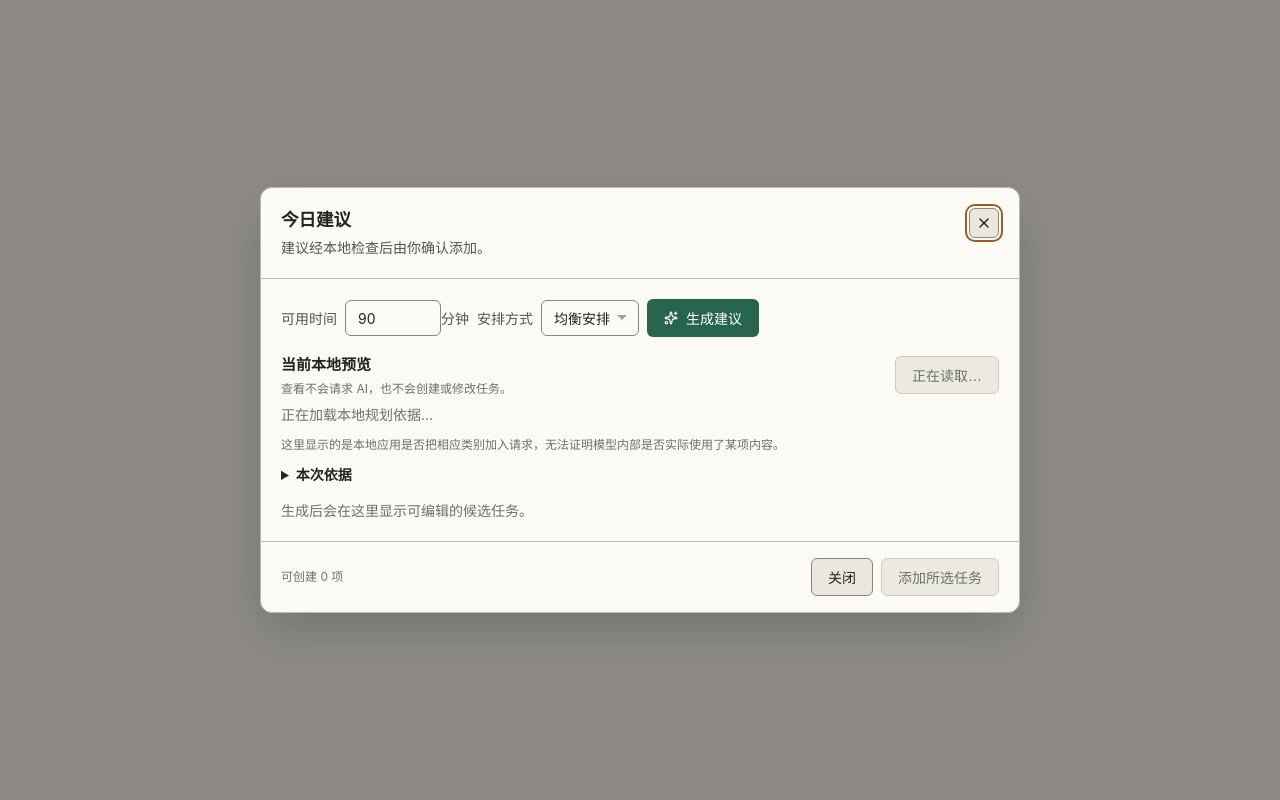
Scenario: TodayActionSuggestionDialog › repairs an unselected candidate without admitting another invalid unselected candidate
The width and height of the screenshot is (1280, 800).
Click the button with test id "ai-plan-generate" at (703, 318), box [647,299,759,337]
(page scrolled)
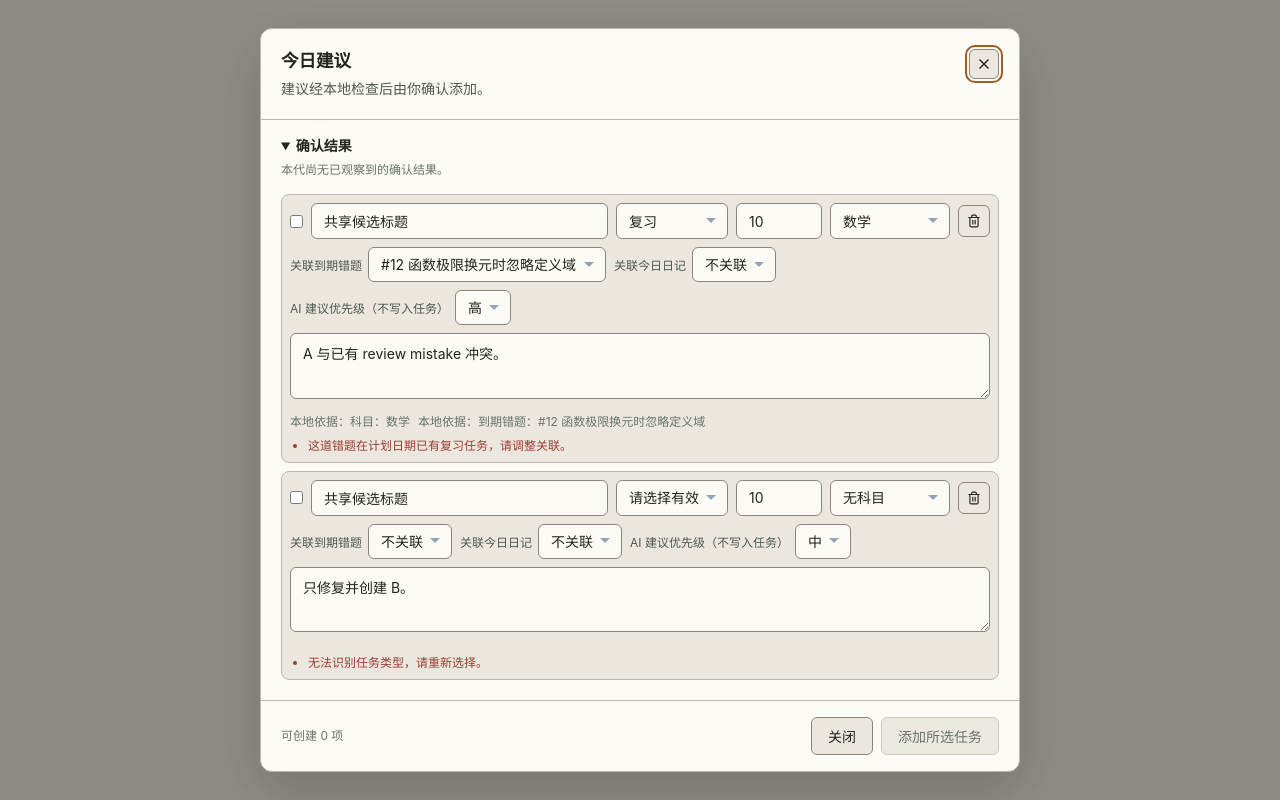
Check: the list item "这道错题在计划日期已有复习任务，请调整关联。" is shown, box [308,438,572,453]
Check: the list item "无法识别任务类型，请重新选择。" is shown, box [308,655,488,670]
Check: the 1st checkbox named "选择 共享候选标题" is not checked, box [290,214,303,228]
Select "专注学习" in the 2nd dropdown named "任务类型" at (672, 498), box [616,480,728,516]
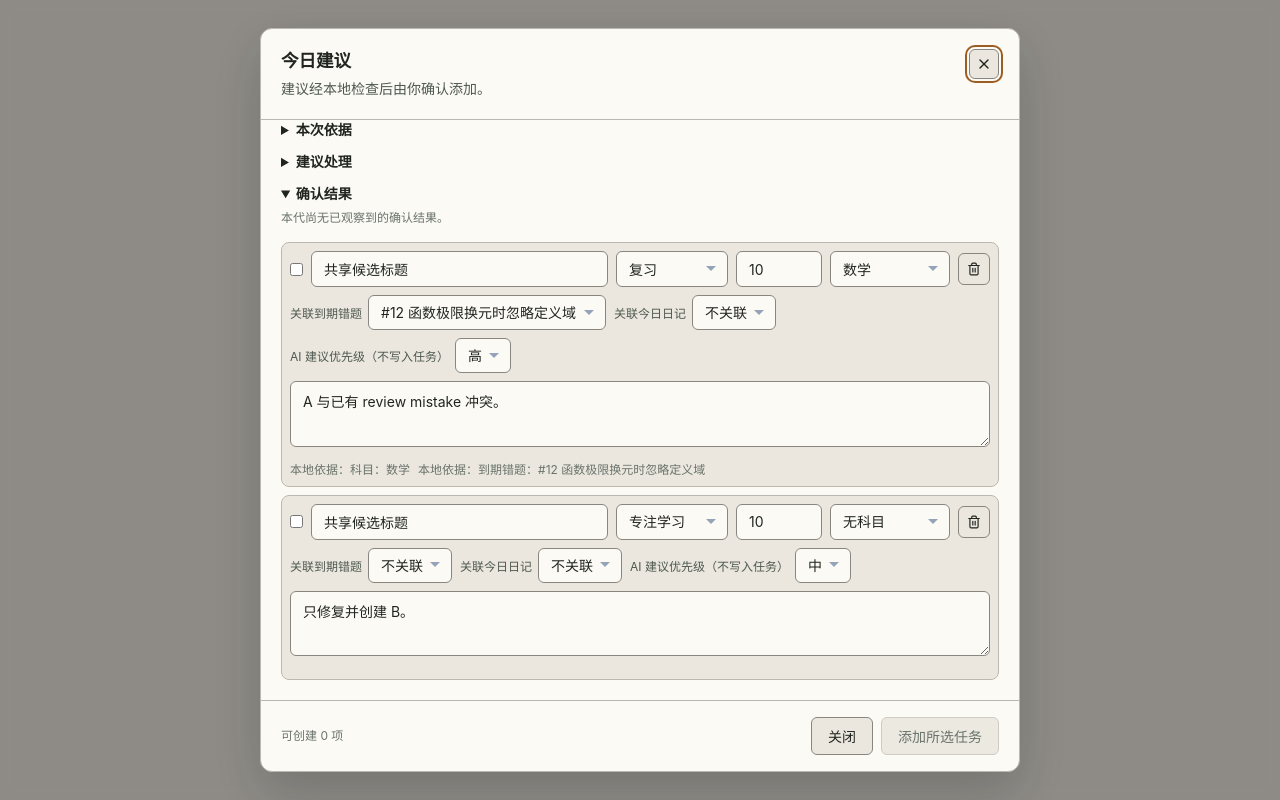
Check: the list item "无法识别任务类型，请重新选择。" is gone
Click the 2nd checkbox named "选择 共享候选标题" at (296, 522), box [290,515,303,528]
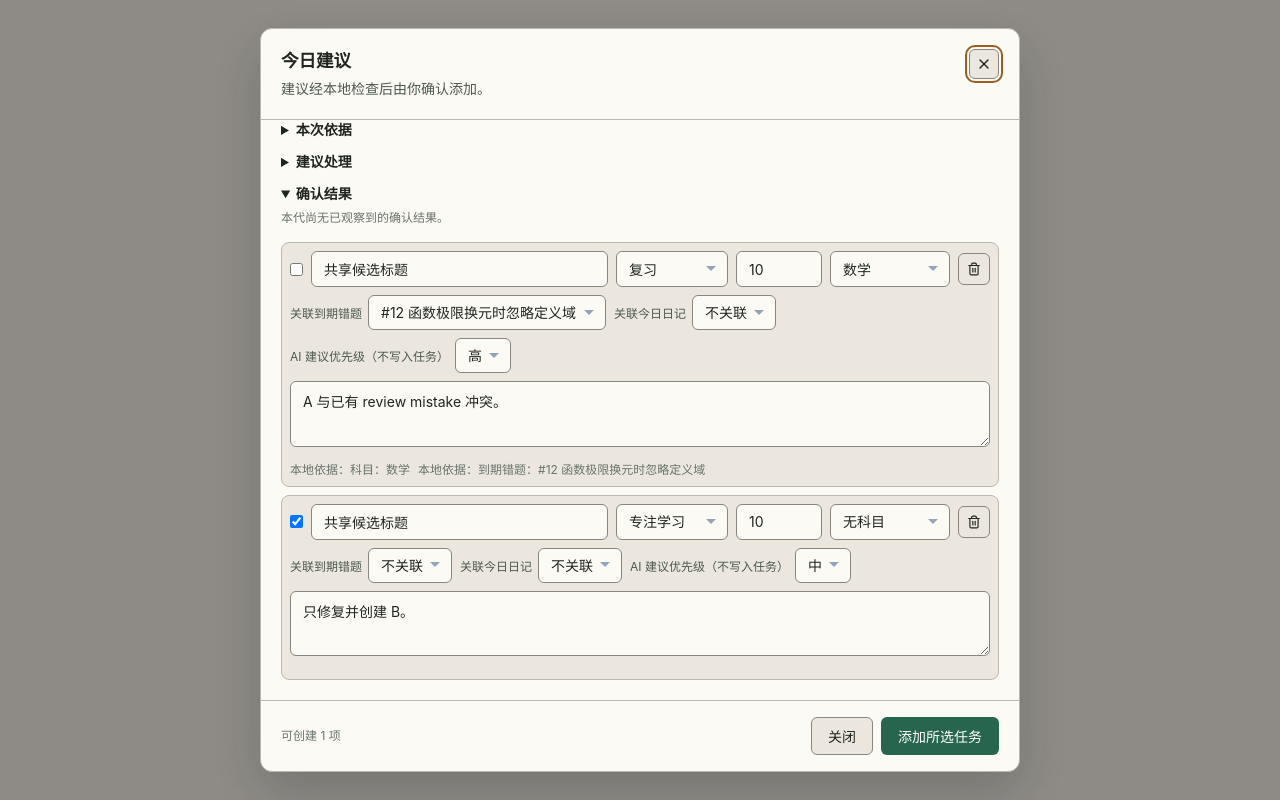
Check: the button with test id "ai-plan-create-selected" is enabled
Click the button with test id "ai-plan-create-selected" at (940, 736), box [881,717,999,755]
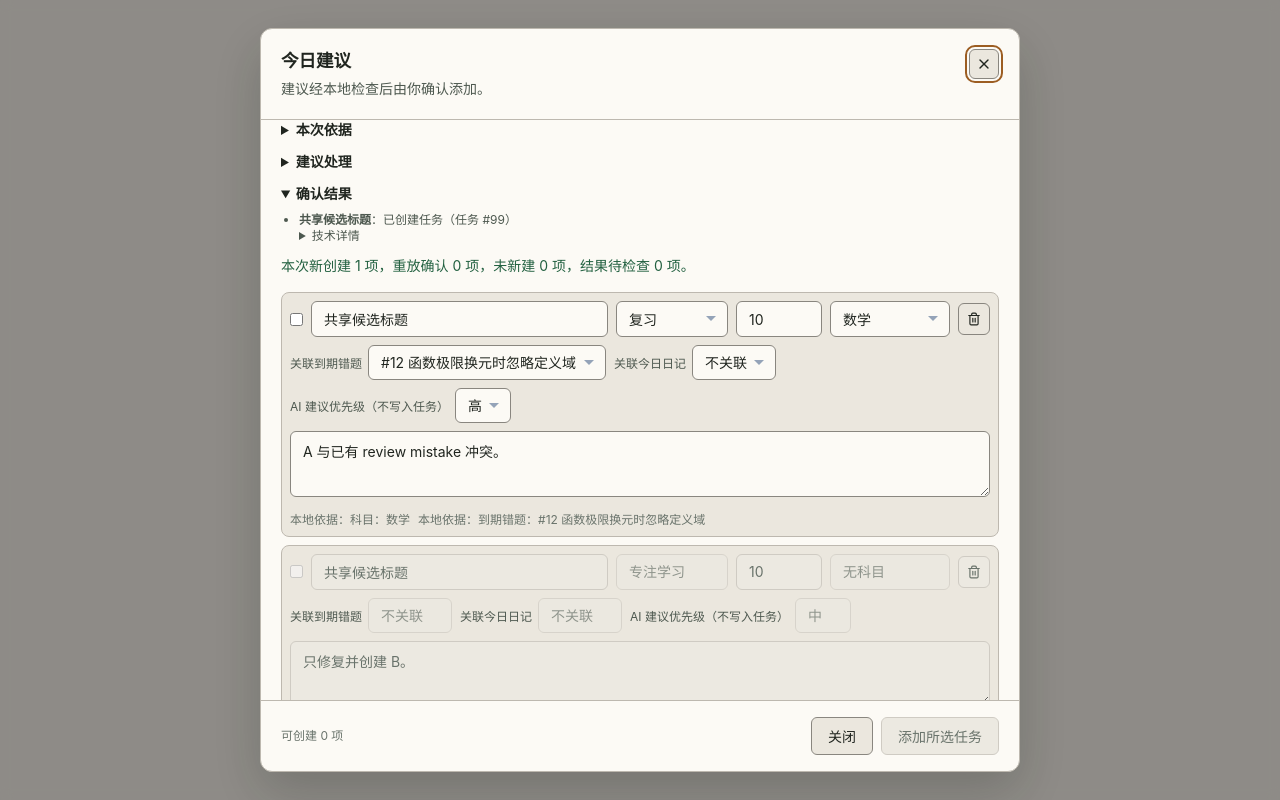
Check: the list item with test id "today-action-confirmed-outcome-suggestion-2" shows "已创建任务", box [383,212,443,227]
